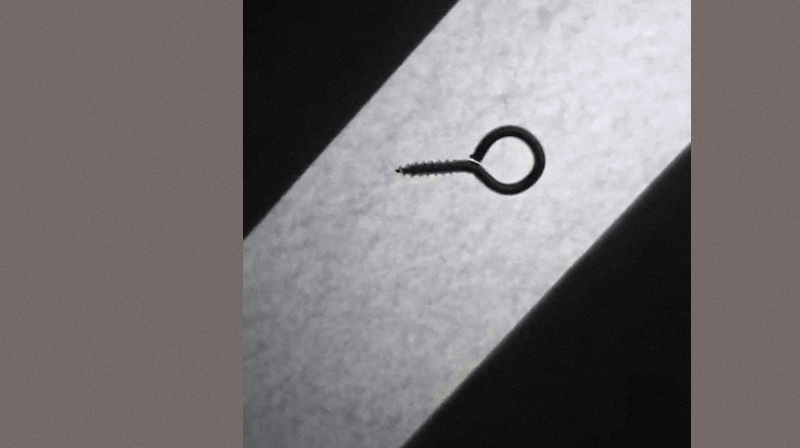O001: (390, 122, 546, 197)
